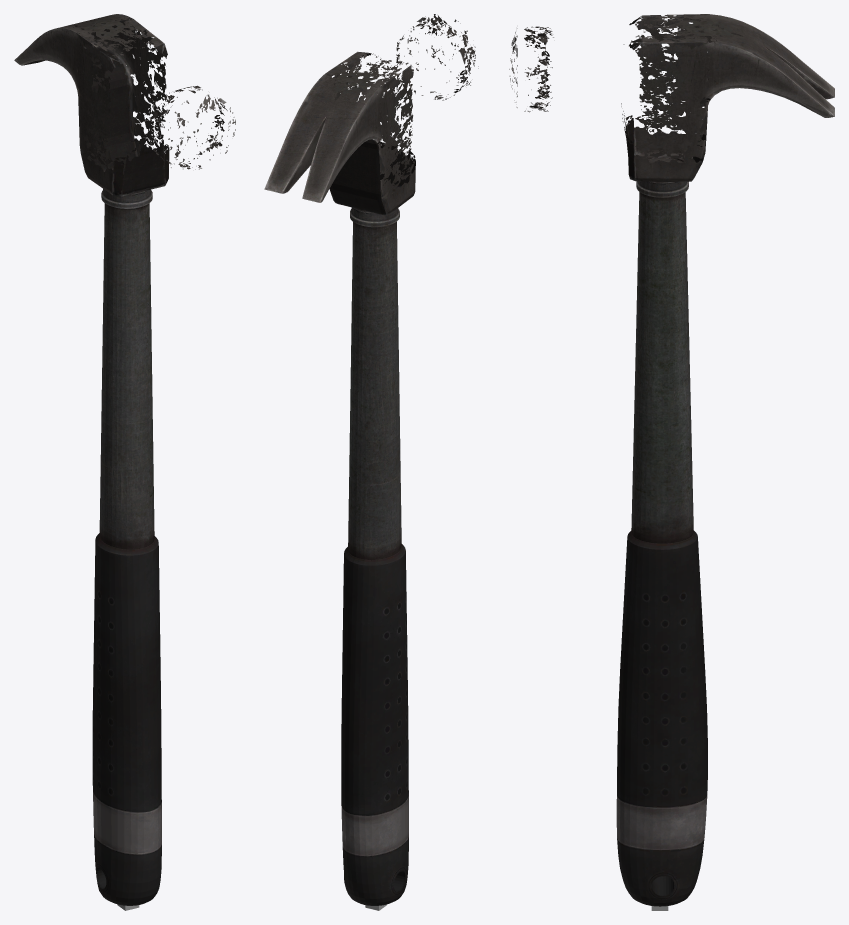
The model's file is hammer.obj.
The picture shows the model from 3 angles, left to right: view 1: azimuth 30°, elevation 25°; view 2: azimuth 150°, elevation 25°; view 3: azimuth 270°, elevation 25°; orthographic projection. The views are drawn at different scales.
Visible parts, largest first — view 1: hammer; view 2: hammer; view 3: hammer.
Part boxes in pixels (<box>): hammer: <box>14,14,235,905</box>; hammer: <box>264,14,478,905</box>; hammer: <box>509,14,834,906</box>.
Size of the model in its own units: 10.59 by 117 by 39.22.
Materials: 2 (1 with a texture image).
